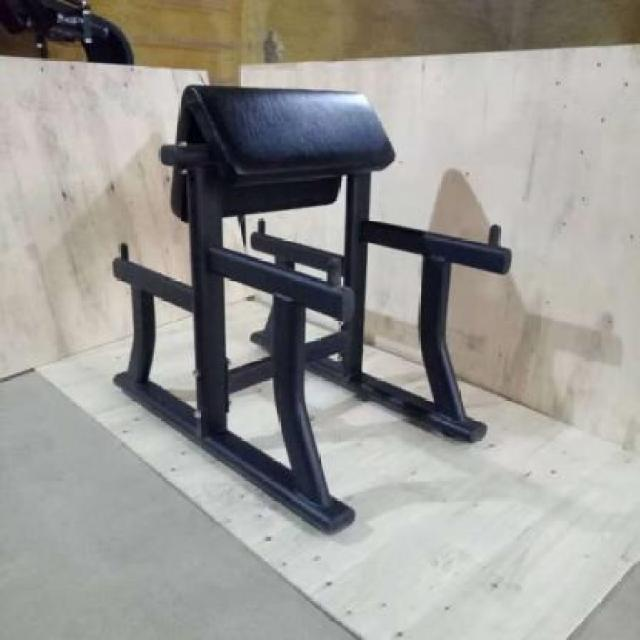arm curl machine: (112, 83, 517, 539)
